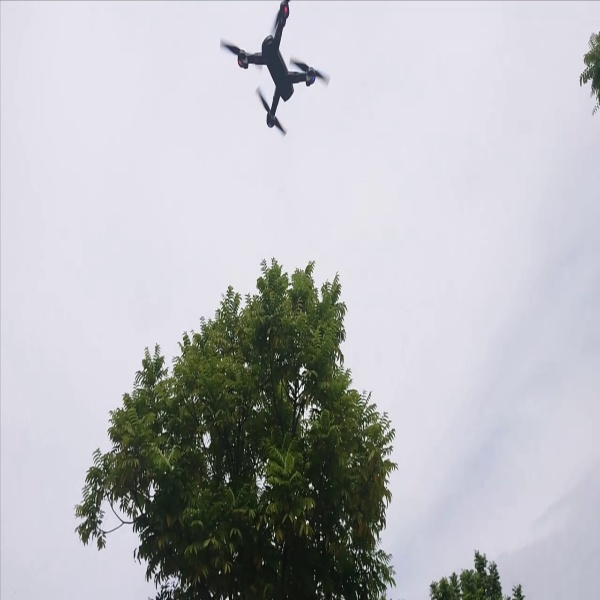drone: (216, 1, 334, 138)
